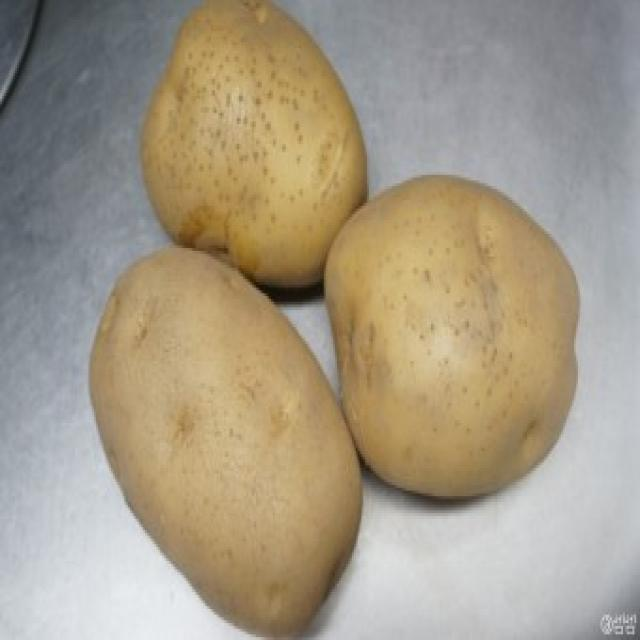potato: (88, 245, 368, 640), (324, 167, 584, 498), (142, 0, 378, 302)
